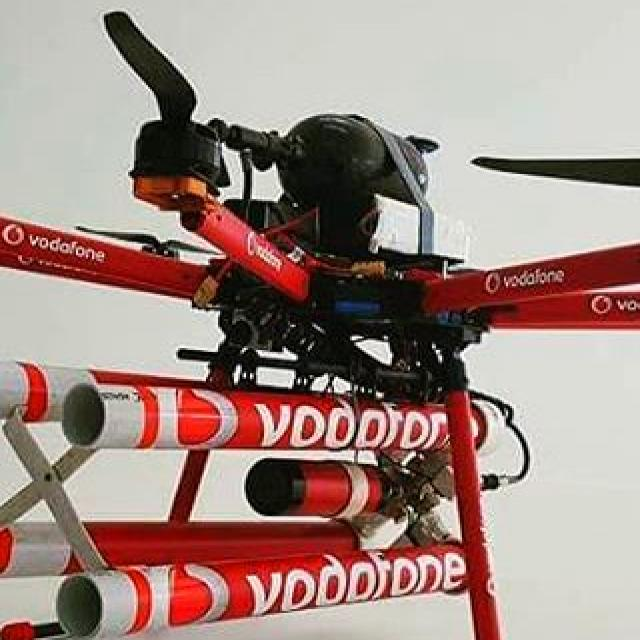drone: (0, 0, 640, 449)
